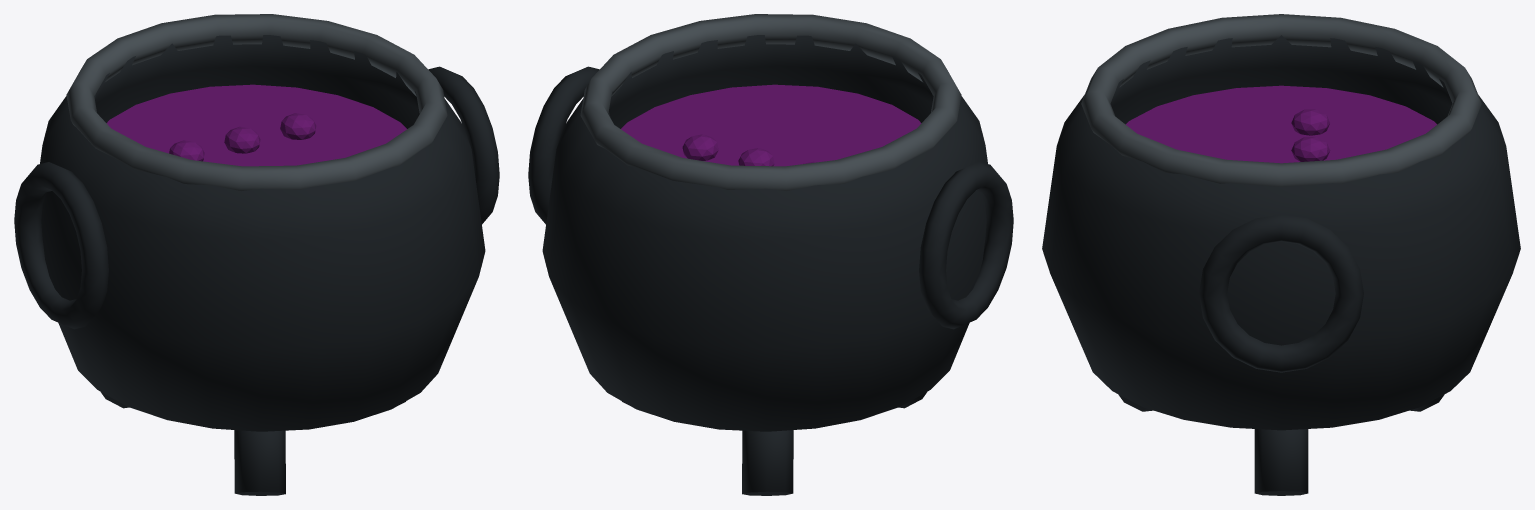
File: cauldron.obj
3 views of the same model, side by side, from view 1: azimuth 30°, elevation 25°; view 2: azimuth 150°, elevation 25°; view 3: azimuth 270°, elevation 25° (orthographic).
Visible parts, largest first — view 1: cauldron; view 2: cauldron; view 3: cauldron.
Part boxes in pixels (<box>): cauldron: <box>14,14,499,495</box>; cauldron: <box>528,14,1013,495</box>; cauldron: <box>1042,14,1520,495</box>.
Size of the model in its own units: 1 by 0.8 by 1.
